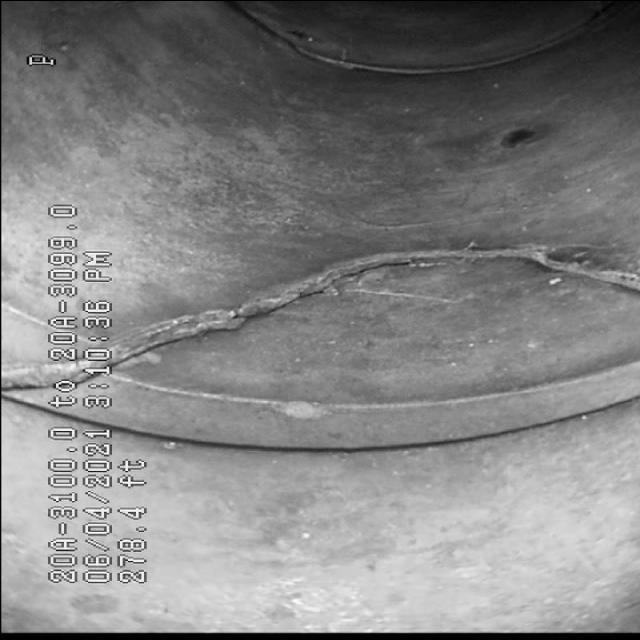Fracture: (153, 216, 599, 352)
